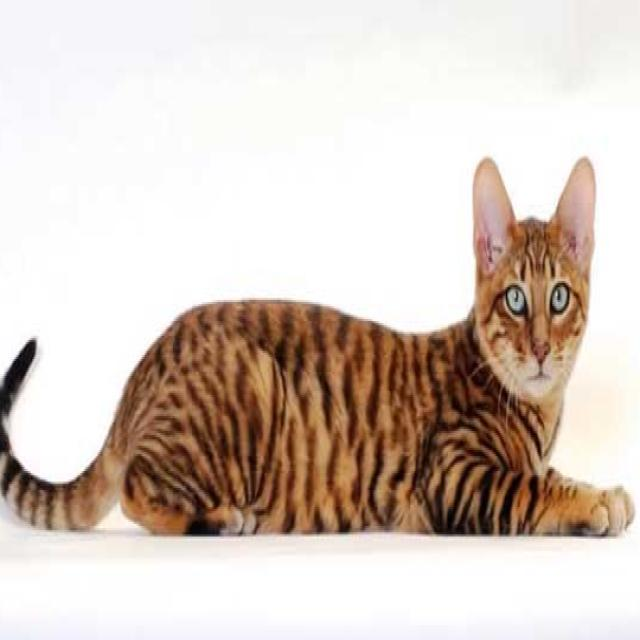Toyger: (0, 148, 639, 545)
